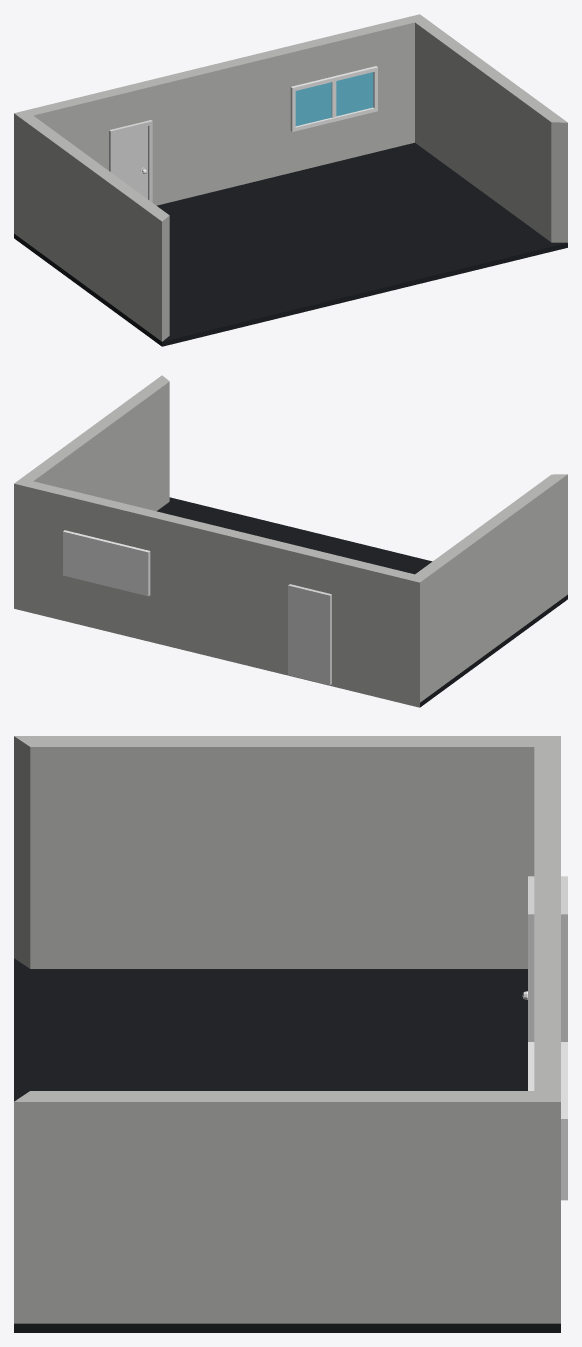
Rendered from empty_room.glb.
3 renders of one model, top to bottom at view 1: azimuth 30°, elevation 25°; view 2: azimuth 150°, elevation 25°; view 3: azimuth 270°, elevation 25°, orthographic. The views are drawn at different scales.
Visible parts, largest first — view 1: Object_5, Object_3, Object_6, Object_2, Object_7, Object_4; view 2: Object_5, Object_3, Object_7, Object_4; view 3: Object_5, Object_3, Object_4, Object_7.
Part boxes in pixels (bbox=[...]): Object_5: bbox=[14, 14, 567, 341]; Object_3: bbox=[14, 142, 567, 346]; Object_6: bbox=[295, 72, 373, 126]; Object_2: bbox=[114, 126, 147, 198]; Object_7: bbox=[140, 66, 377, 173]; Object_4: bbox=[109, 120, 152, 202]; Object_5: bbox=[14, 375, 567, 707]; Object_3: bbox=[157, 497, 567, 707]; Object_7: bbox=[63, 530, 150, 596]; Object_4: bbox=[288, 584, 331, 684]; Object_5: bbox=[14, 736, 560, 1323]; Object_3: bbox=[14, 958, 560, 1332]; Object_4: bbox=[528, 876, 567, 1041]; Object_7: bbox=[522, 991, 567, 1200].
Bounding box in the file's own units: 21.2 × 6.25 × 13.57.
